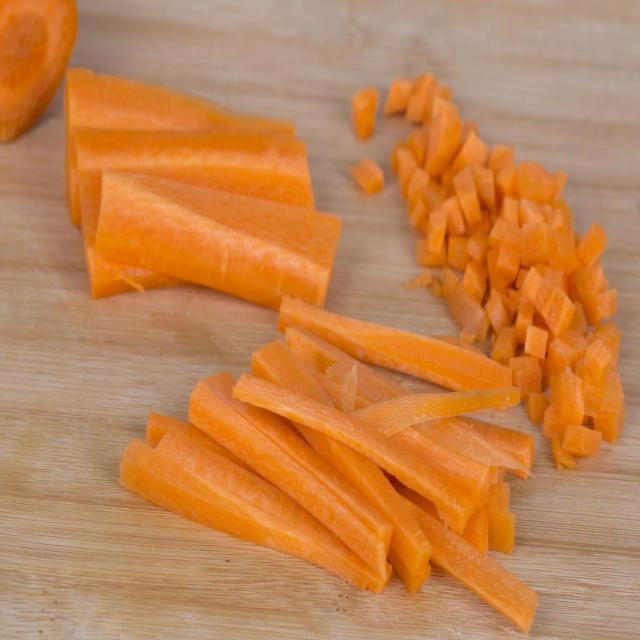carrot: (100, 270, 549, 639), (49, 48, 354, 327)
